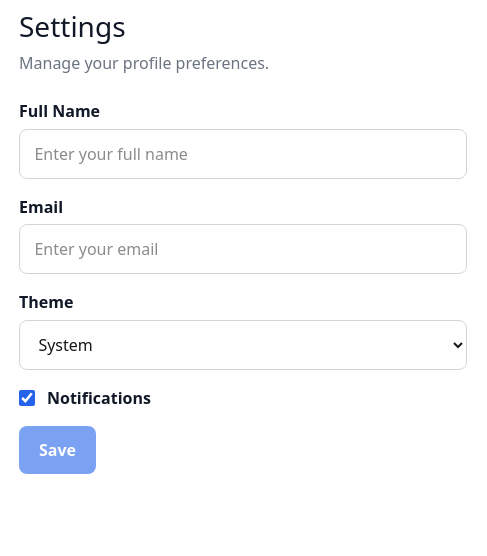
SettingsForm › shows a success message after a valid save
Type "Grace Hopper" into the field labelled "Full Name" at (243, 154), box [19,129,467,179]
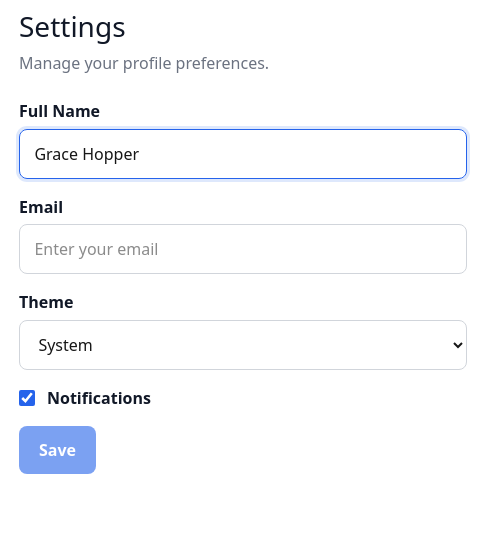
Type "grace@example.com" into the field labelled "Email" at (243, 249), box [19,224,467,274]
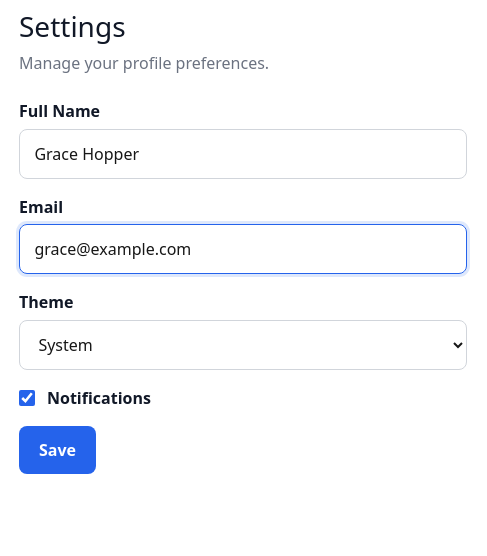
Check: the button "Save" is enabled
Click the button "Save" at (58, 450), box [19,426,96,474]
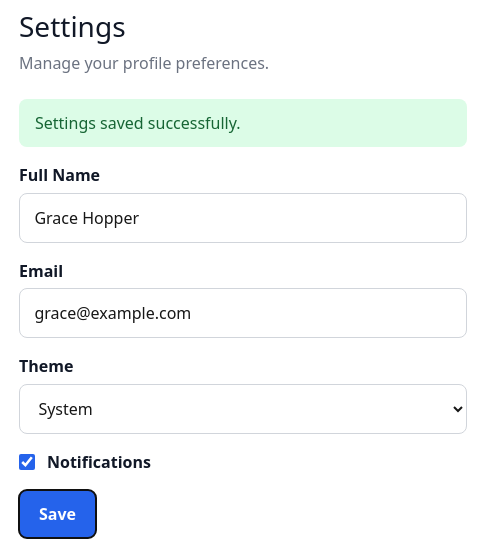
Check: the text "Settings saved successfully." is shown, box [19,99,467,147]
